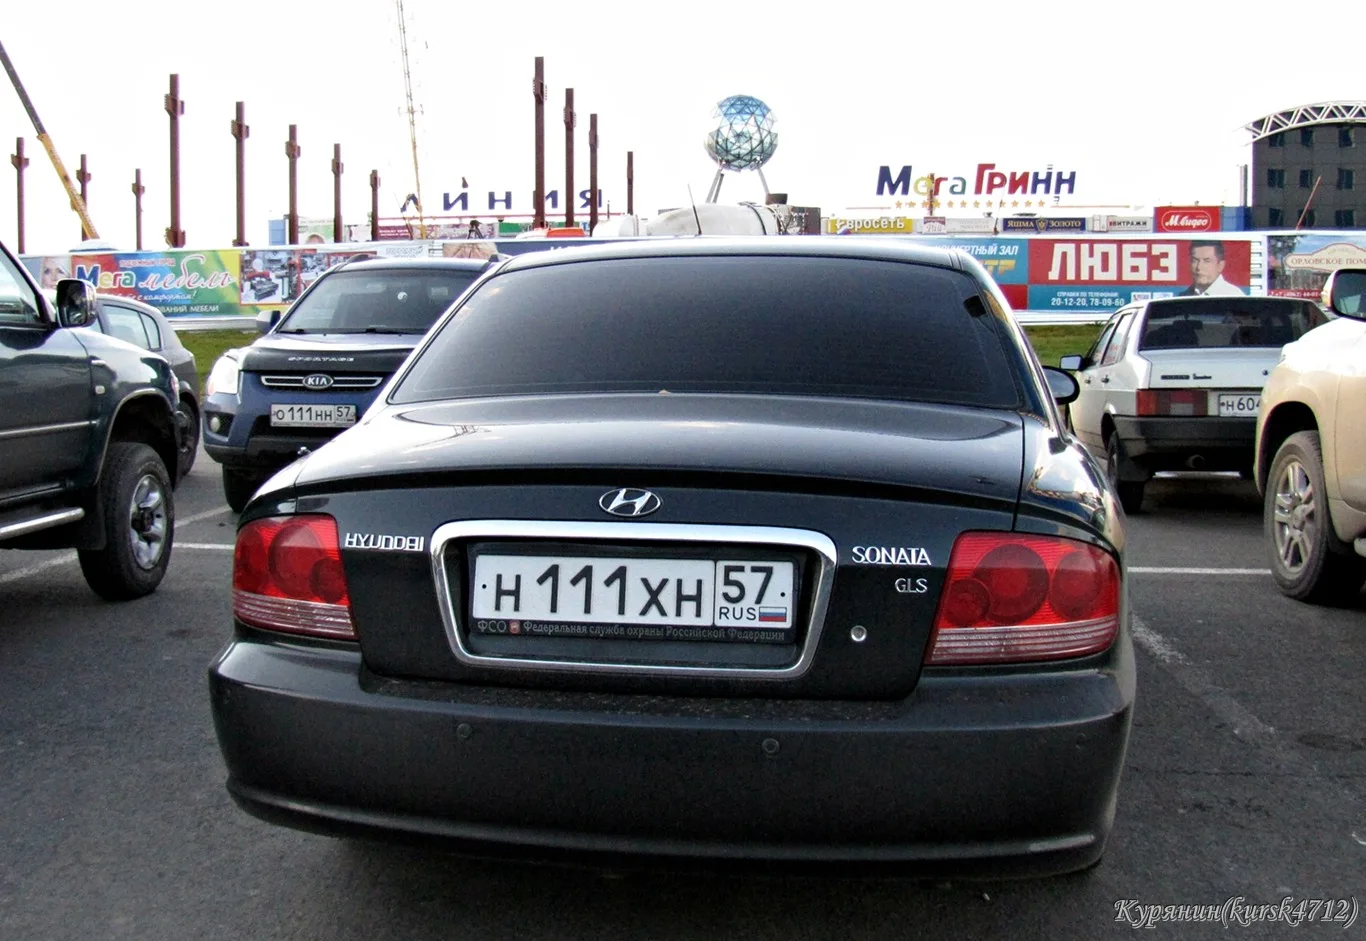number_plate: (452, 558, 796, 626), (271, 399, 356, 430)
